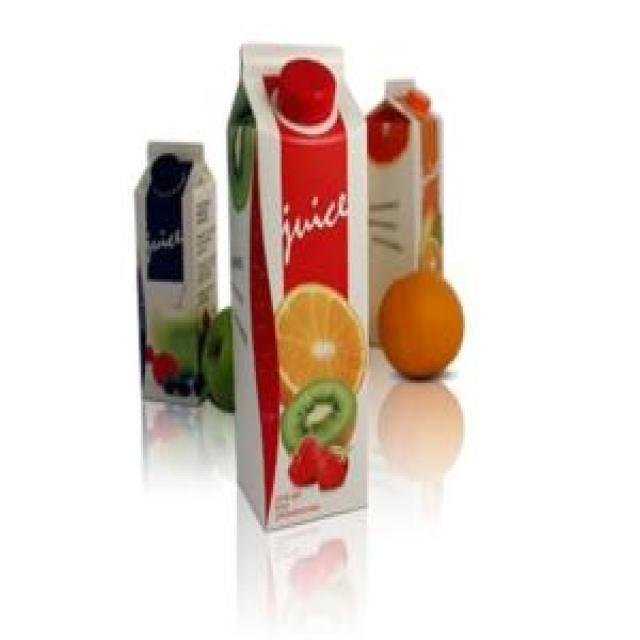Carton: (216, 31, 374, 547), (127, 122, 225, 438), (362, 66, 456, 354)
